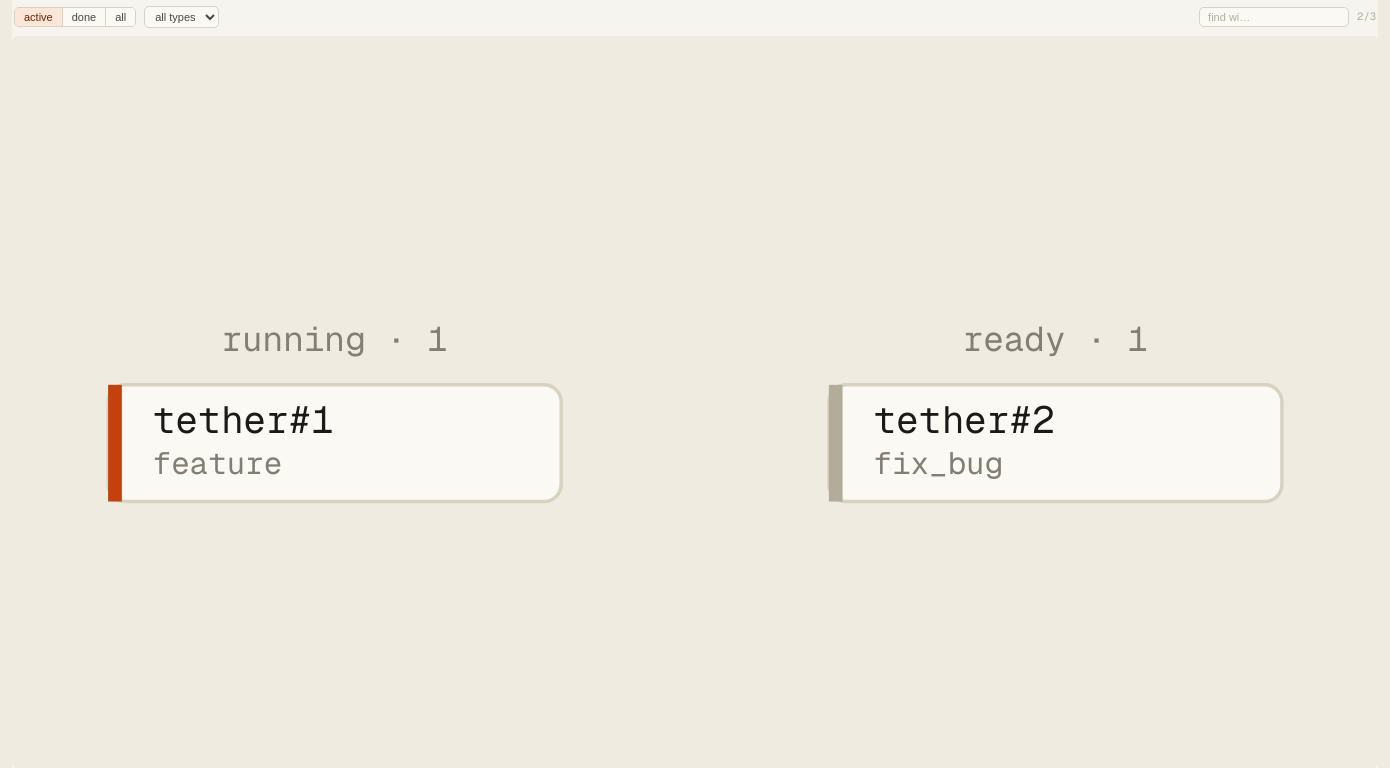
Test: WorkGraphView search wiring (tether#29 behaviour, tether#90 wiring) › mode and type controls go inert while a search is active
The image size is (1390, 768).
Expected: the text "tether#1" is shown, [153,395,334,444]
Type "thing" into the field with class "fg-search-input" at (1274, 17), box [1199,7,1349,27]
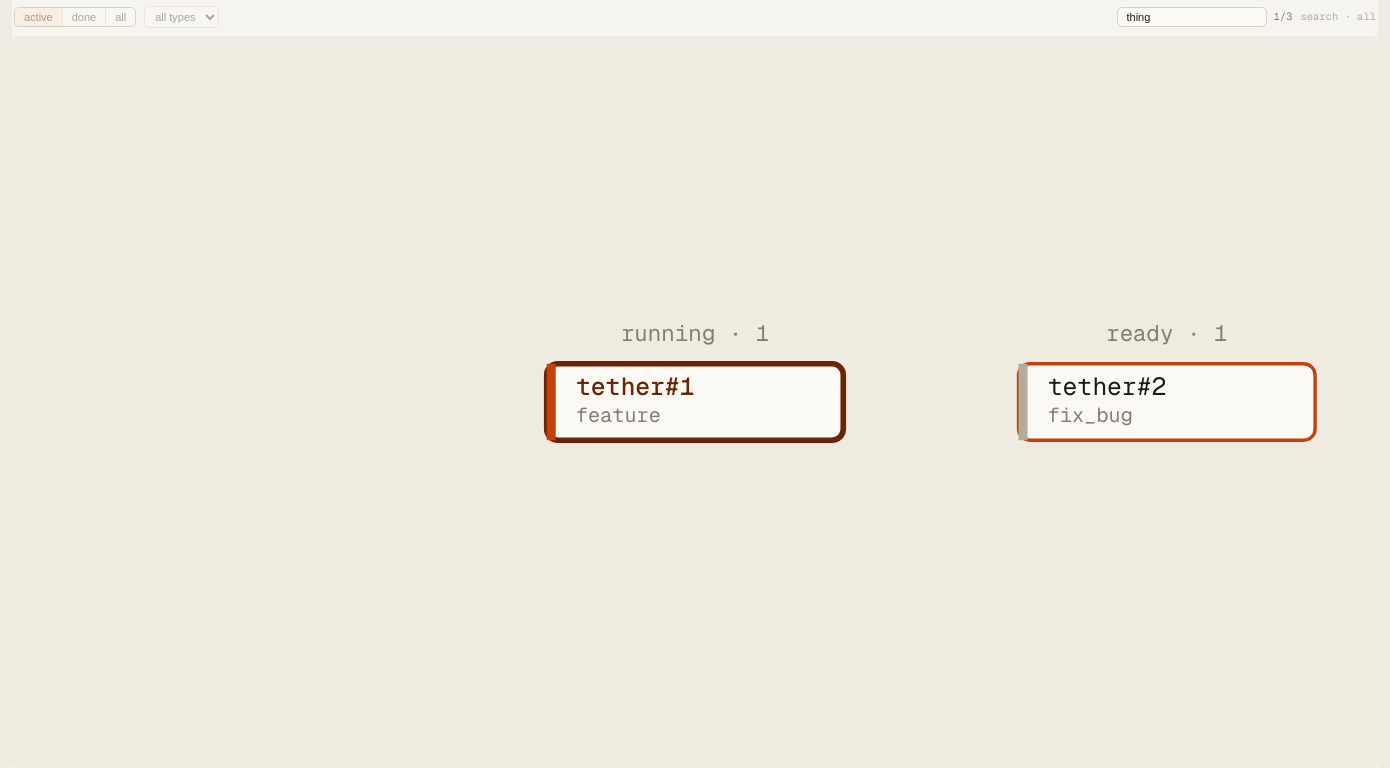
Now the dropdown with class "fg-type-select" is disabled, box [144,6,219,28]
